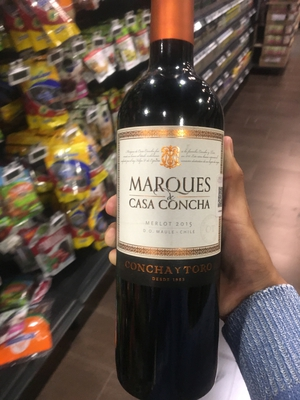marques de casa concha merlot: (110, 16, 232, 376)
